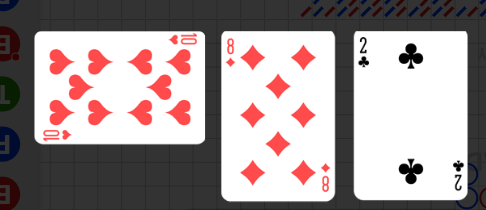10H: (42, 127, 74, 141), (167, 32, 198, 46)
2C: (450, 158, 464, 192)
